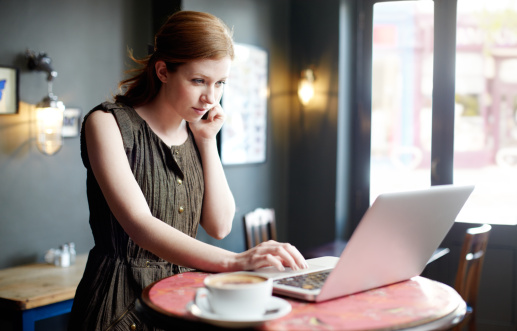em pe: (66, 8, 269, 323)
